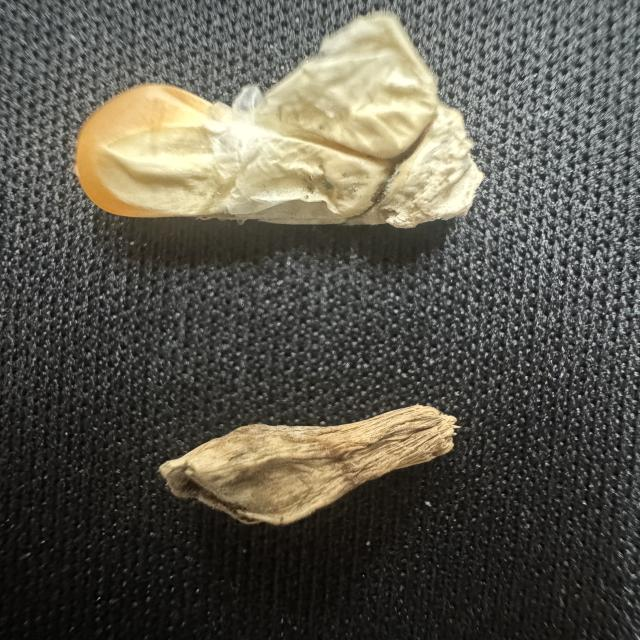Bad-Seed: (72, 5, 494, 237), (159, 383, 465, 536)
